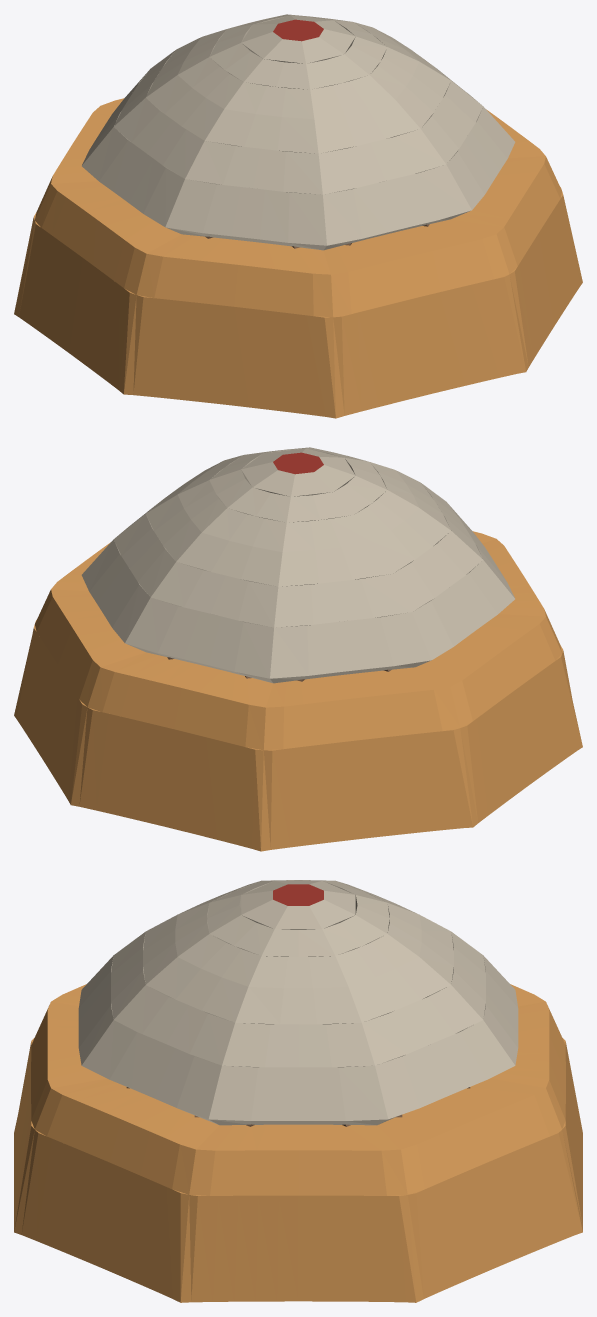
File: modelo.dae
3 views of the same model, one above another, from view 1: azimuth 30°, elevation 25°; view 2: azimuth 150°, elevation 25°; view 3: azimuth 270°, elevation 25° (orthographic). The views are drawn at different scales.
Visible parts, largest first — view 1: plem_s5_h06_04, plem_s5_h06_00, moc_s5_n01_10, moc_s5_n01_01, moc_s5_n01_03, moc_s5_n01_05, moc_s5_n01_02, moc_s5_n01_04, moc_s5_n01_06, moc_s5_n01_07, moc_s5_n01_08, moc_s5_n01_09 (+140 smaller); view 2: plem_s3_h06_00, plem_s3_h06_04, moc_s3_n01_01, moc_s3_n01_10, moc_s3_n01_06, moc_s3_n01_08, moc_s3_n01_05, moc_s3_n01_07, moc_s3_n01_09, moc_s3_n01_04, moc_s3_n01_03, moc_s3_n01_02 (+140 smaller); view 3: plem_s0_h06_00, plem_s0_h06_04, moc_s0_n01_05, moc_s0_n01_06, moc_s0_n01_04, moc_s0_n01_07, moc_s0_n01_01, moc_s0_n01_10, moc_s0_n01_03, moc_s0_n01_08, moc_s0_n01_02, moc_s0_n01_09 (+121 smaller).
Part boxes in pixels (<box>): plem_s5_h06_04: <box>288,192,326,250</box>; plem_s5_h06_00: <box>165,179,216,236</box>; moc_s5_n01_10: <box>306,315,326,416</box>; moc_s5_n01_01: <box>133,296,161,396</box>; moc_s5_n01_03: <box>172,301,197,400</box>; moc_s5_n01_05: <box>210,305,233,405</box>; moc_s5_n01_02: <box>152,299,179,398</box>; moc_s5_n01_04: <box>191,303,215,402</box>; moc_s5_n01_06: <box>230,307,251,407</box>; moc_s5_n01_07: <box>249,309,270,409</box>; moc_s5_n01_08: <box>268,311,288,411</box>; moc_s5_n01_09: <box>287,313,306,414</box>; plem_s3_h06_00: <box>270,625,308,683</box>; plem_s3_h06_04: <box>380,612,431,669</box>; moc_s3_n01_01: <box>270,748,290,849</box>; moc_s3_n01_10: <box>435,729,463,829</box>; moc_s3_n01_06: <box>363,738,386,838</box>; moc_s3_n01_08: <box>399,734,424,833</box>; moc_s3_n01_05: <box>345,740,366,840</box>; moc_s3_n01_07: <box>381,736,405,835</box>; moc_s3_n01_09: <box>417,732,444,831</box>; moc_s3_n01_04: <box>326,742,347,842</box>; moc_s3_n01_03: <box>308,744,328,844</box>; moc_s3_n01_02: <box>290,746,309,847</box>; plem_s0_h06_00: <box>208,1065,257,1125</box>; plem_s0_h06_04: <box>339,1065,388,1125</box>; moc_s0_n01_05: <box>277,1195,298,1301</box>; moc_s0_n01_06: <box>298,1195,319,1301</box>; moc_s0_n01_04: <box>255,1195,278,1301</box>; moc_s0_n01_07: <box>318,1195,341,1301</box>; moc_s0_n01_01: <box>191,1195,217,1302</box>; moc_s0_n01_10: <box>379,1195,405,1302</box>; moc_s0_n01_03: <box>234,1195,258,1301</box>; moc_s0_n01_08: <box>338,1195,362,1301</box>; moc_s0_n01_02: <box>212,1195,237,1301</box>; moc_s0_n01_09: <box>359,1195,384,1301</box>.
Bounding box in the file's own units: 9.16 × 9.16 × 5.26.
